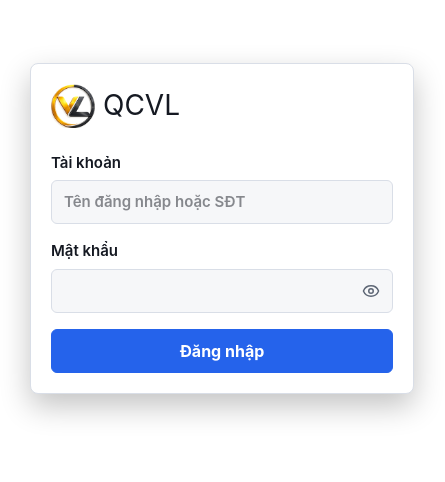
Test: shows mapped API errors after authentication fails downstream
Type "admin" into the field labelled "Tài khoản" at (222, 202), box [51,180,393,224]
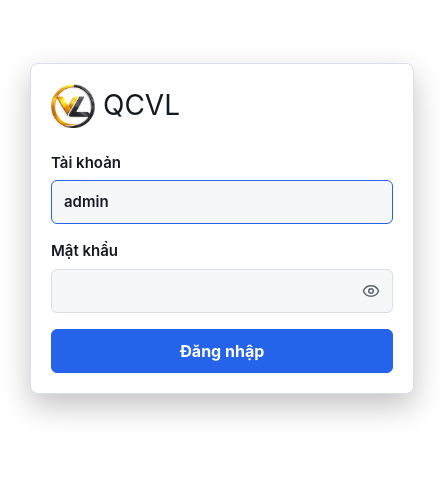
Type "123456" into the password field labelled "Mật khẩu" at (222, 290), box [51,268,393,312]
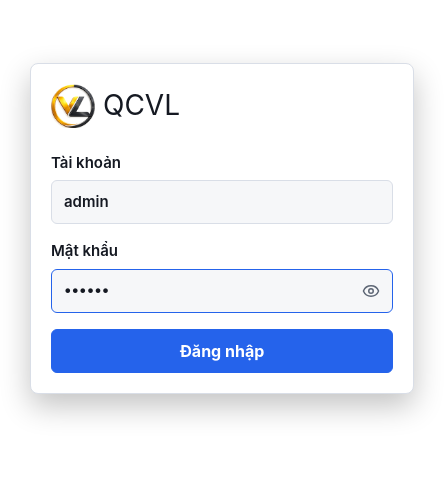
Click the button "Đăng nhập" at (222, 350), box [51,328,393,372]
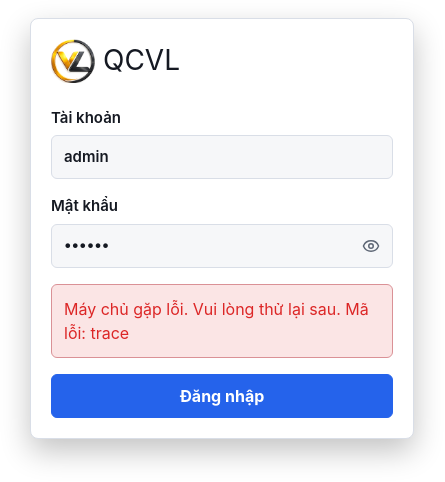
expect the message shows "Máy chủ gặp lỗi. Vui lòng thử lại sau.": met, box [64,298,369,342]
